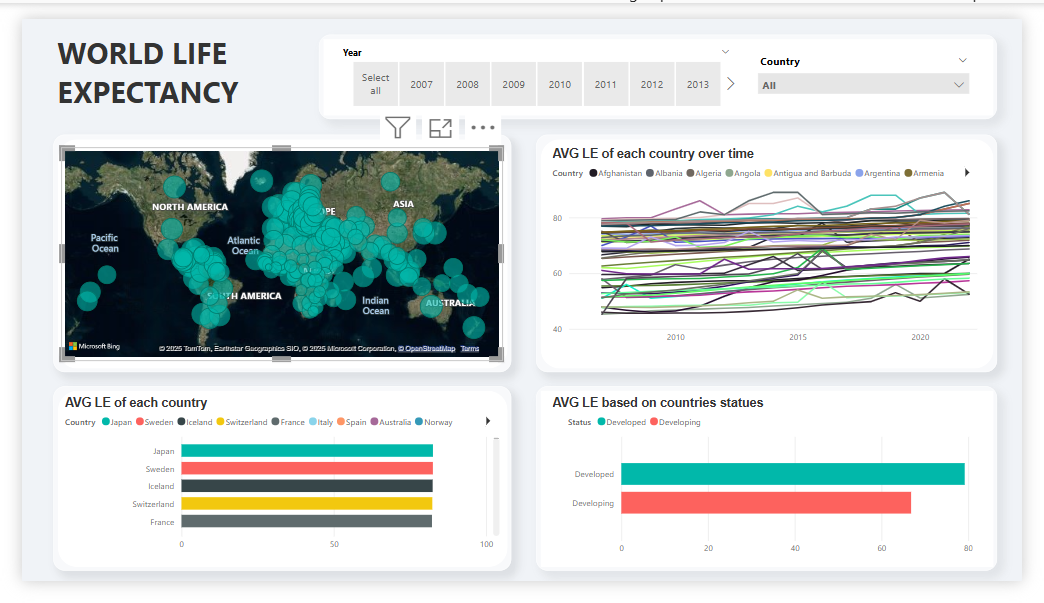

Layout of this report page (visuals, bound fields, positions):
{"tool":"powerbi","page":{"name":"Page 1","canvas":[1280,720],"ordinal":0},"visuals":[{"type":"shape","box":[40,148,586,304],"z":0},{"type":"shape","box":[380,20,868,108],"z":1000},{"type":"map","fields":{"Category":["world_life_expectancy world_life_expectancy.Country"],"Size":["Avg(world_life_expectancy world_life_expectancy.Life expectancy)"]},"box":[50,164,565,274],"z":3000},{"type":"slicer","fields":{"Values":["world_life_expectancy world_life_expectancy.Year"]},"box":[398,30,520,88],"z":4000},{"type":"slicer","fields":{"Values":["world_life_expectancy world_life_expectancy.Country"]},"box":[932,40,290,72],"z":5000},{"type":"shape","box":[658,148,590,304],"z":6000},{"type":"lineChart","fields":{"Category":["world_life_expectancy world_life_expectancy.Year"],"Y":["Avg(world_life_expectancy world_life_expectancy.Life expectancy)"],"Series":["world_life_expectancy world_life_expectancy.Country"]},"box":[674,178,555,248],"z":7000},{"type":"shape","box":[40,470,586,236],"z":8000},{"type":"barChart","fields":{"Category":["world_life_expectancy world_life_expectancy.Country"],"Y":["Avg(world_life_expectancy world_life_expectancy.Life expectancy)"],"Series":["world_life_expectancy world_life_expectancy.Country"]},"box":[50,496,566,194],"z":9000},{"type":"shape","box":[658,470,590,236],"z":10000},{"type":"barChart","fields":{"Y":["Avg(world_life_expectancy world_life_expectancy.Life expectancy)"],"Category":["world_life_expectancy world_life_expectancy.Status"],"Series":["world_life_expectancy world_life_expectancy.Status"]},"box":[694,496,528,200],"z":11000},{"type":"textbox","box":[40,12,300,130],"z":12000},{"type":"textbox","box":[674,476,300,40],"z":13000},{"type":"textbox","box":[674,158,300,42],"z":14000},{"type":"textbox","box":[50,476,300,40],"z":15000}]}

Visuals, with their boxes in screenshot pixels (x1, y1, x2, y2), scaled from the page's 1280x720 canvas onto the 1044x603 screenshot:
shape: locate(33, 124, 511, 379)
shape: locate(310, 17, 1018, 107)
map - world_life_expectancy world_life_expectancy.Country x Avg(world_life_expectancy world_life_expectancy.Life expectancy): locate(41, 137, 502, 367)
slicer - world_life_expectancy world_life_expectancy.Year: locate(325, 25, 749, 99)
slicer - world_life_expectancy world_life_expectancy.Country: locate(760, 34, 997, 94)
shape: locate(537, 124, 1018, 379)
lineChart - world_life_expectancy world_life_expectancy.Year x Avg(world_life_expectancy world_life_expectancy.Life expectancy): locate(550, 149, 1002, 357)
shape: locate(33, 394, 511, 591)
barChart - world_life_expectancy world_life_expectancy.Country x Avg(world_life_expectancy world_life_expectancy.Life expectancy): locate(41, 415, 502, 578)
shape: locate(537, 394, 1018, 591)
barChart - Avg(world_life_expectancy world_life_expectancy.Life expectancy) x world_life_expectancy world_life_expectancy.Status: locate(566, 415, 997, 583)
textbox: locate(33, 10, 277, 119)
textbox: locate(550, 399, 794, 432)
textbox: locate(550, 132, 794, 168)
textbox: locate(41, 399, 285, 432)
